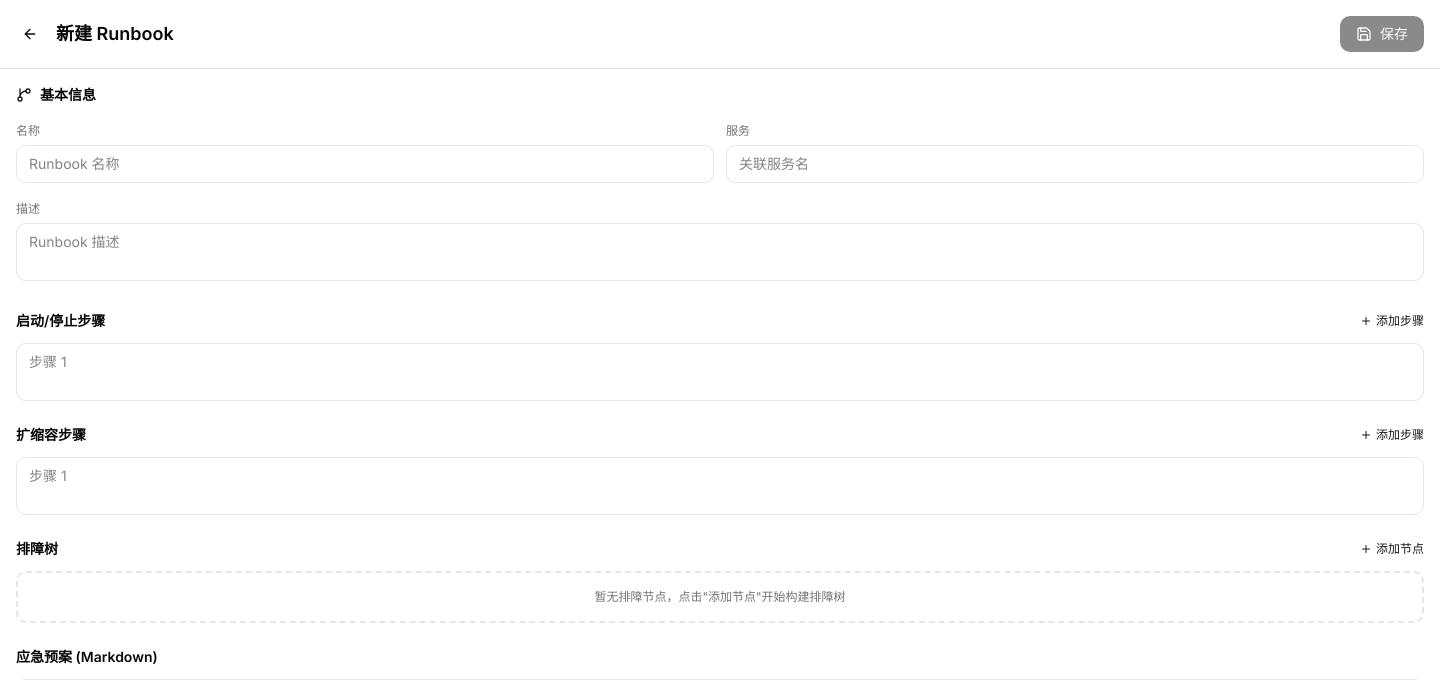
Test: RunbookEditor › shows error message on network failure
In the field with placeholder "Runbook 名称": point(365, 164) [16,145,714,183], type "New Runbook"
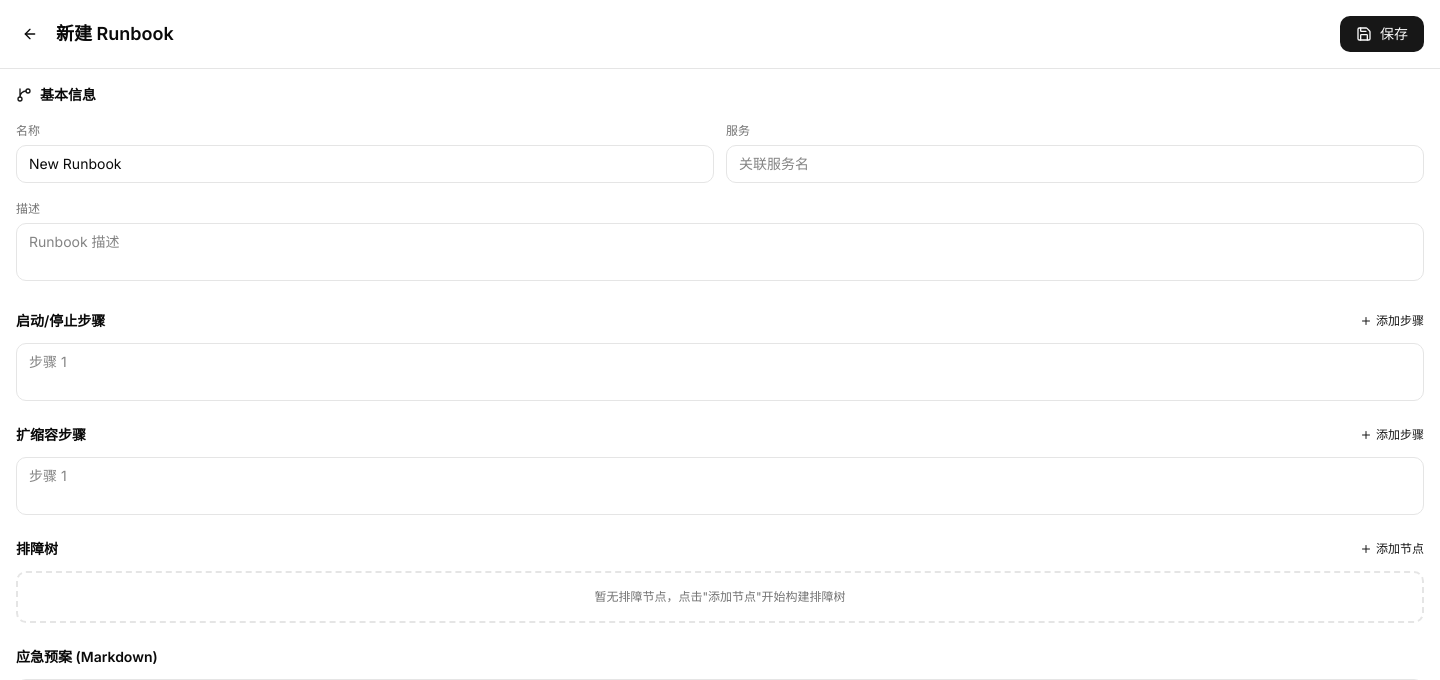
Click the button "保存": point(1382, 34) [1340,16,1424,52]
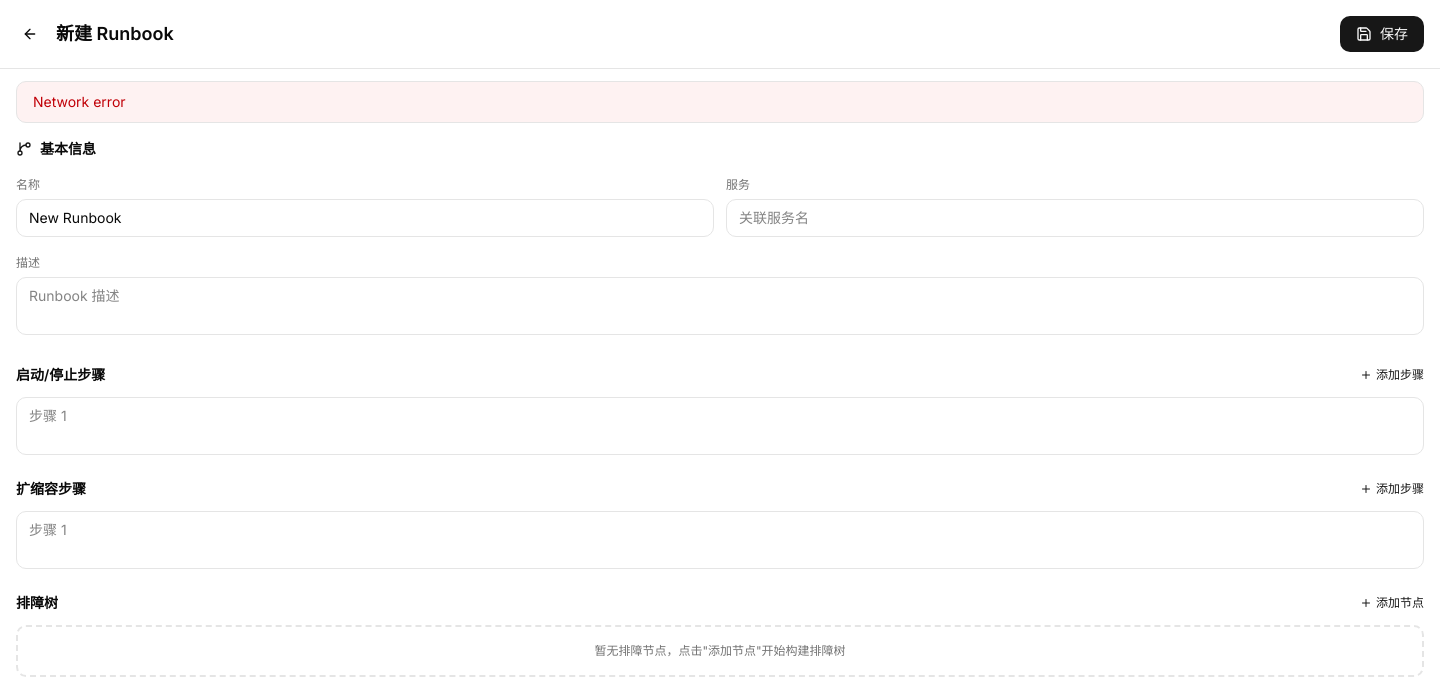
Expected: the text "Network error" is shown, [16,81,1424,123]
